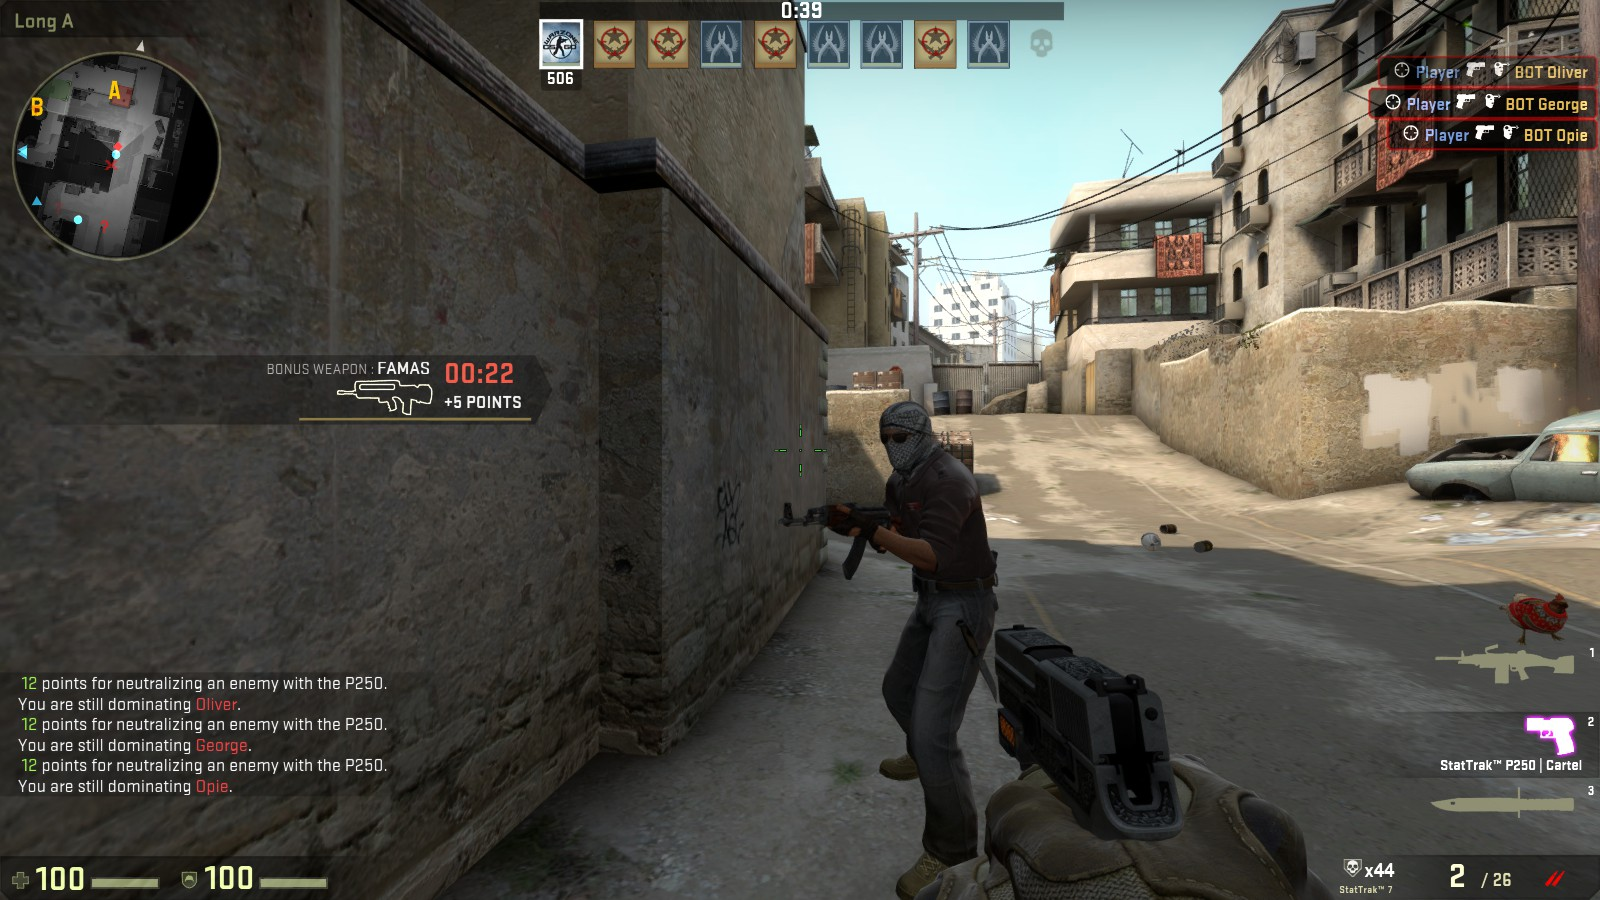t: (859, 397, 998, 881)
th: (875, 395, 938, 478)
